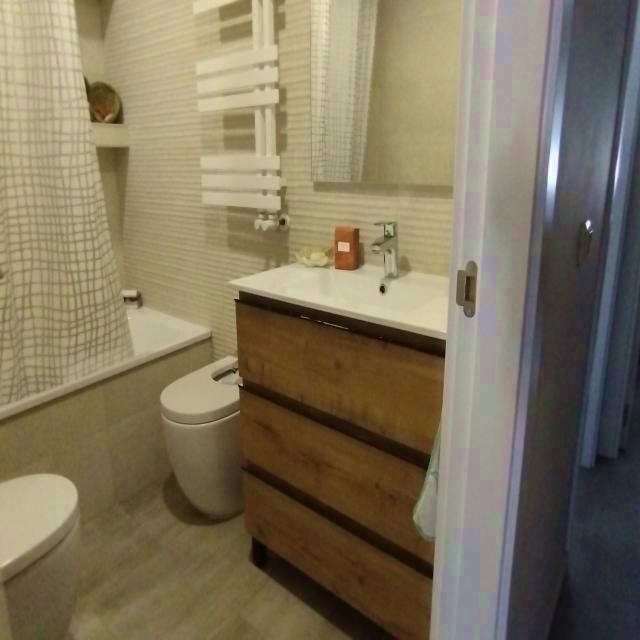bathtube: (0, 0, 213, 510)
shower: (374, 221, 399, 279)
table: (0, 474, 82, 640)
wardrobe: (231, 263, 450, 640)
